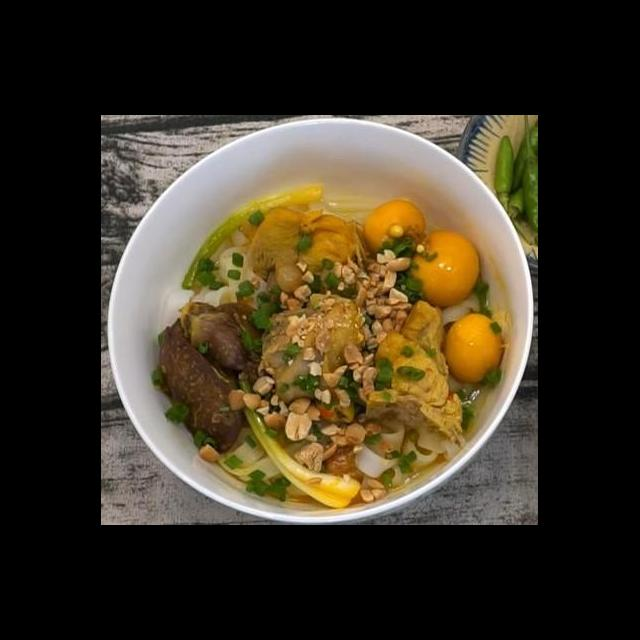ca: (364, 298, 466, 444), (242, 204, 370, 302)
mi: (156, 228, 272, 327), (216, 422, 324, 499), (348, 414, 472, 480)
trung: (406, 226, 482, 309), (441, 311, 506, 386), (359, 198, 428, 260)
